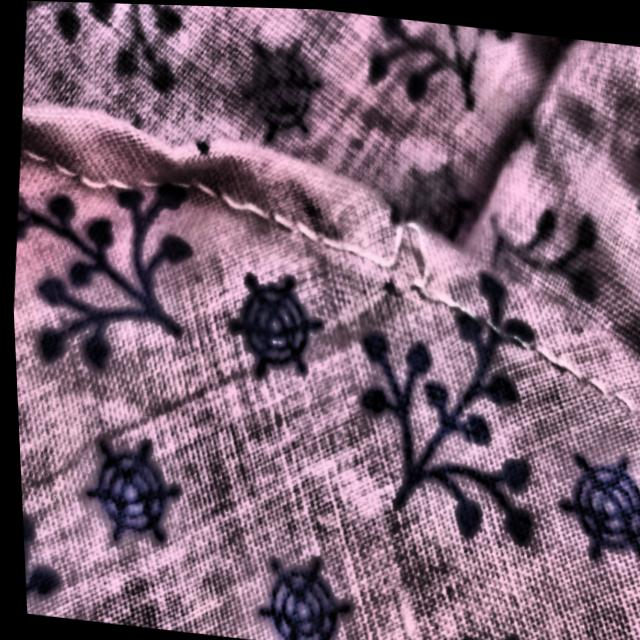Stitch: (325, 151, 491, 410)
